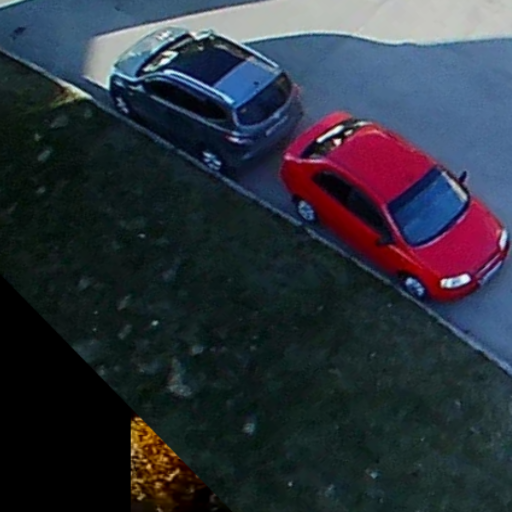Car: (283, 110, 507, 308), (107, 25, 302, 172)
